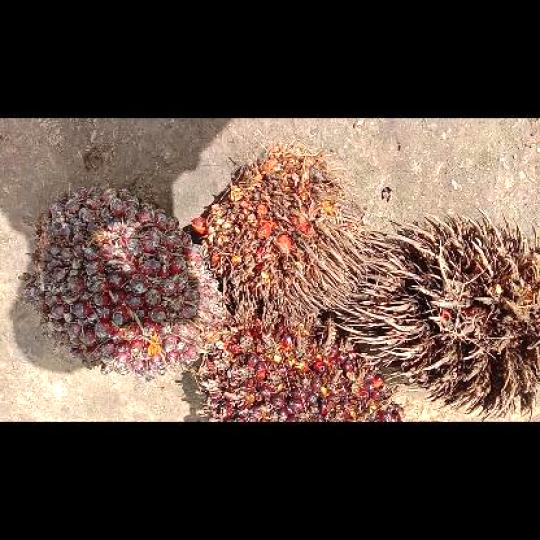kurang masak: (23, 178, 234, 378)
masak: (188, 302, 409, 420)
terlalu masak: (188, 139, 375, 328)
